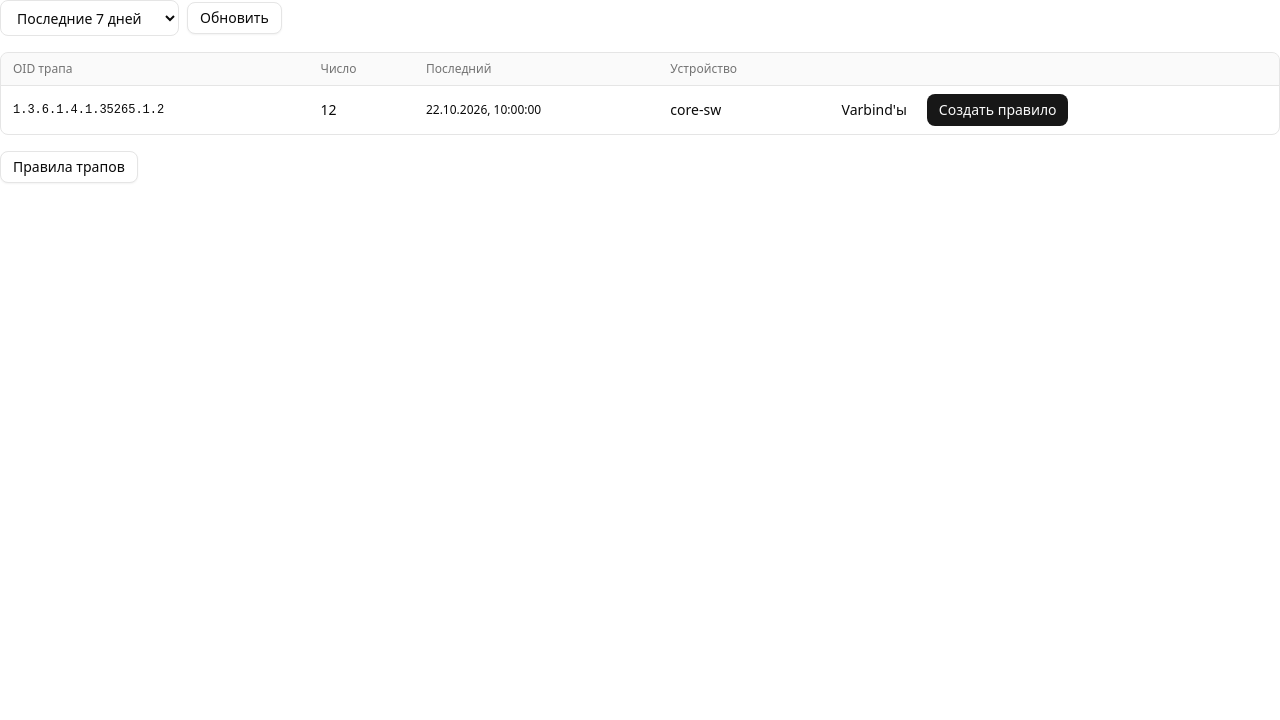
Unidentified › creates a rule with the OID prefilled and the row disappears after the refresh
The image size is (1280, 720).
Click the button "Создать правило": x=998, y=110 [927,94,1068,126]
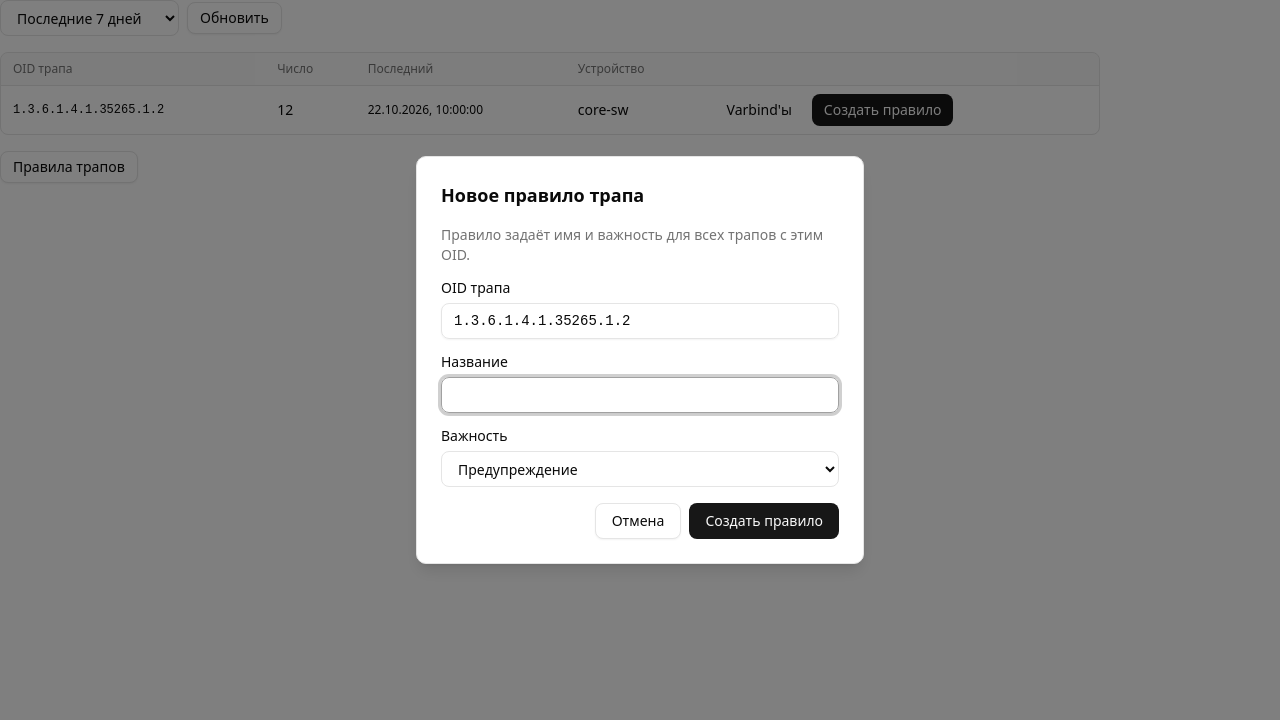
Now the field labelled "OID трапа" holds "1.3.6.1.4.1.35265.1.2", box [441,303,839,339]
In the field labelled "Название": x=640, y=395 [441,377,839,413], type "  Link flap "
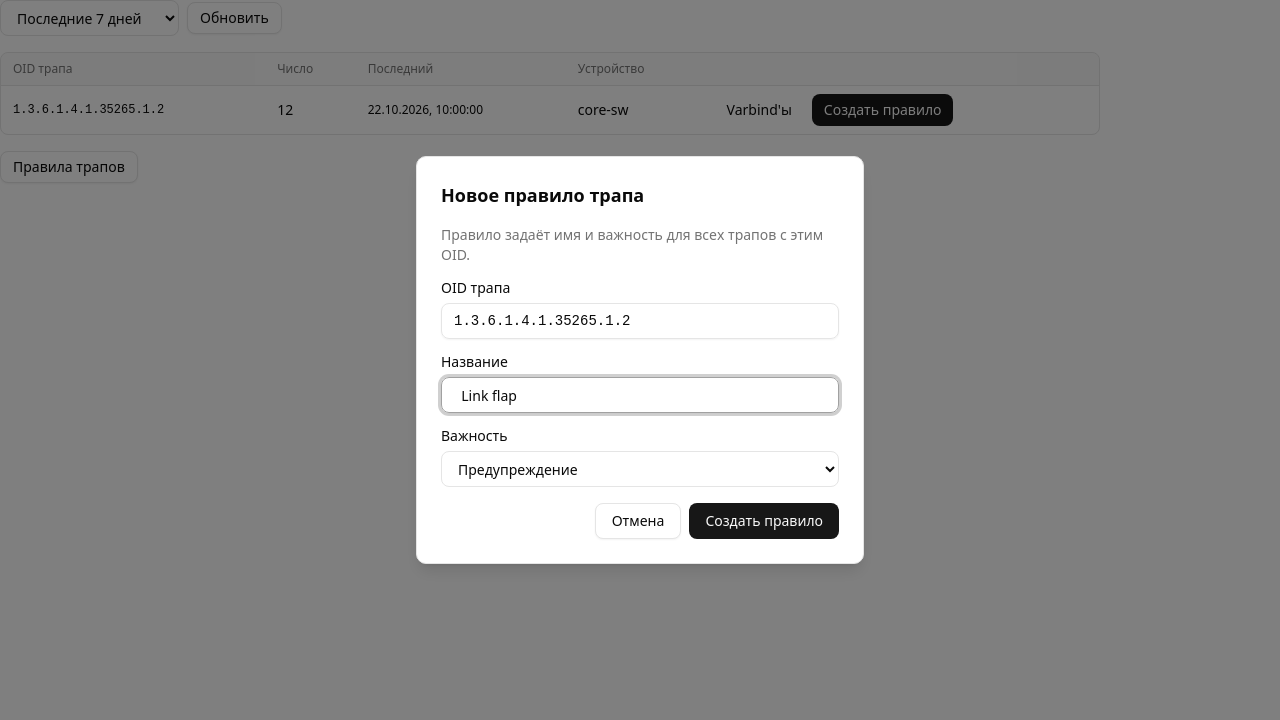
Select "Высокая" in the dropdown labelled "Важность": x=640, y=469 [441,451,839,487]
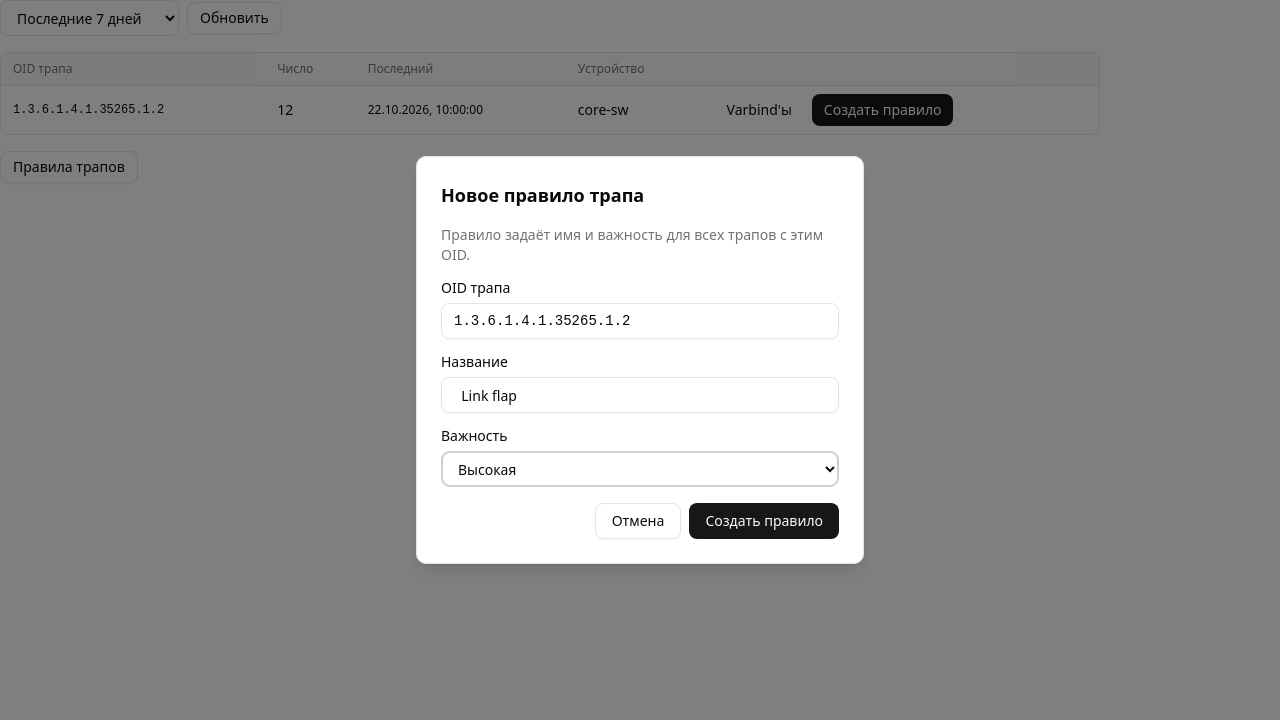
Click the button "Создать правило": x=764, y=521 [689,503,839,539]
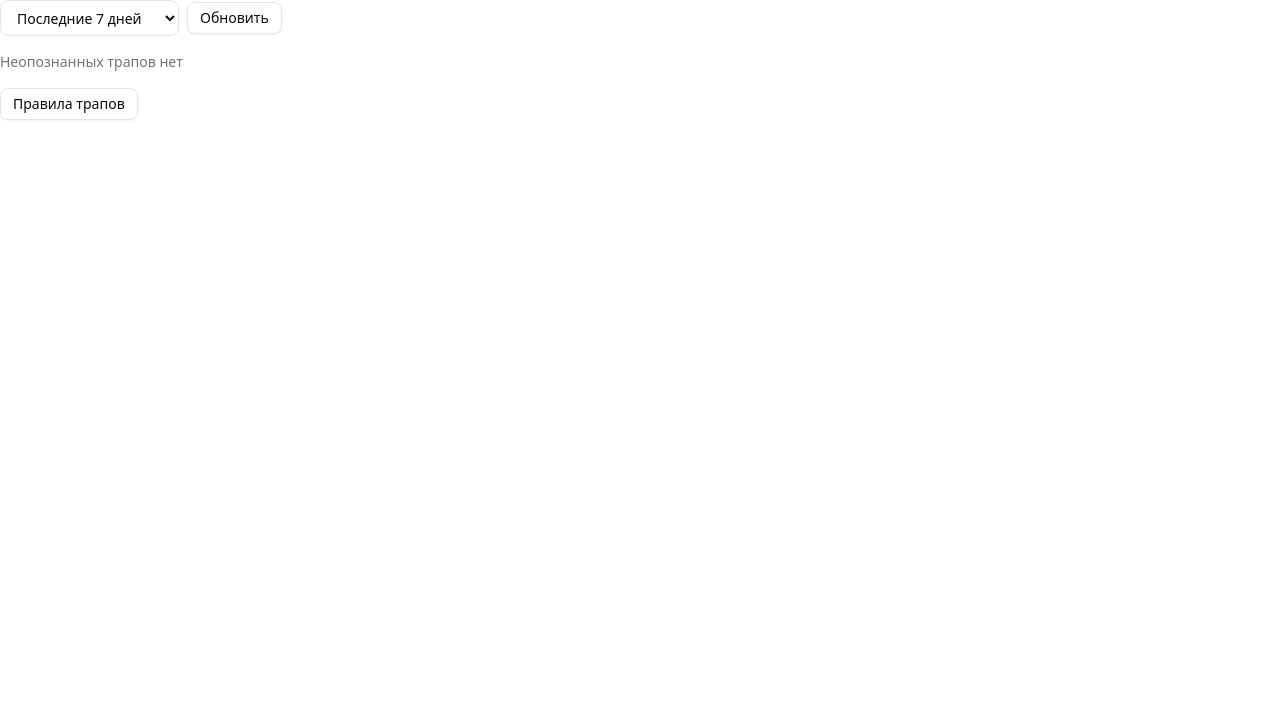
Now the text "1.3.6.1.4.1.35265.1.2" is gone
Now the dialog is gone
Now the text "Неопознанных трапов нет" is shown, box [0,52,183,71]
